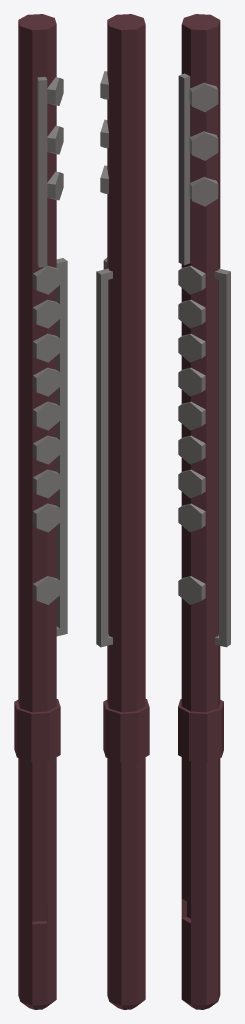
File: flute-modern.fbx
3 renders of one model, left to right at view 1: azimuth 30°, elevation 25°; view 2: azimuth 210°, elevation 25°; view 3: azimuth 330°, elevation 25°, orthographic.
Parts seen in each view (by area): view 1: flute-modern; view 2: flute-modern; view 3: flute-modern.
Boxes of the visible parts, x1,y1,x2,y2 form: flute-modern: [14, 14, 67, 1009]; flute-modern: [96, 14, 149, 1009]; flute-modern: [178, 14, 230, 1009].
Bounding box in the file's own units: 0.0309 × 0.6002 × 0.0282.
